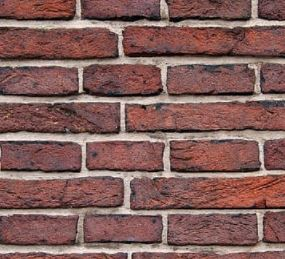brick: (123, 24, 284, 59), (124, 101, 284, 133), (129, 178, 285, 210), (1, 26, 119, 61), (1, 175, 125, 208), (1, 101, 121, 133), (166, 212, 261, 245), (167, 63, 259, 96), (168, 140, 260, 172), (82, 62, 163, 95), (1, 140, 83, 172), (84, 213, 164, 244), (1, 66, 80, 96), (86, 140, 167, 169), (1, 214, 81, 242), (1, 1, 77, 23), (166, 1, 252, 20), (80, 1, 161, 21), (260, 63, 285, 93), (262, 211, 285, 243), (263, 140, 285, 169), (257, 1, 285, 21)
